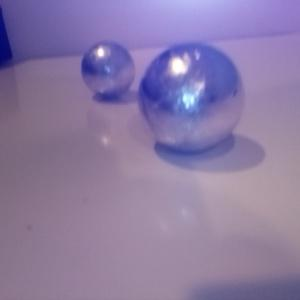alive_ball: (139, 43, 243, 154), (80, 40, 135, 96)
